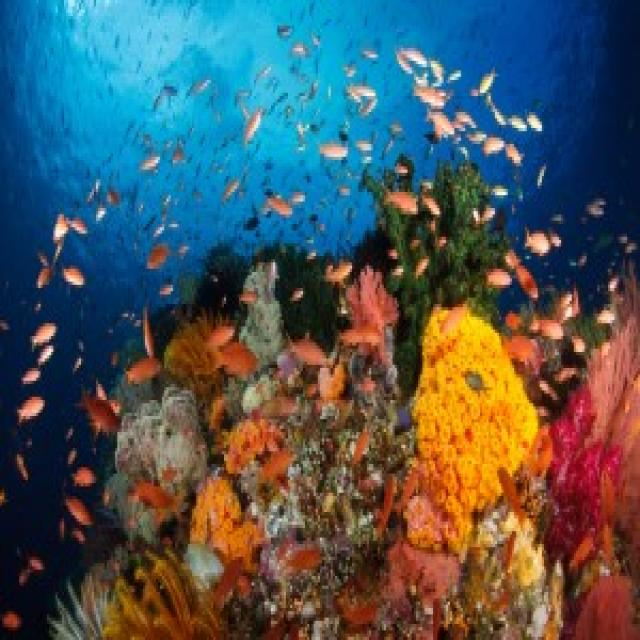Healthy: (545, 283, 639, 638), (413, 308, 539, 548), (112, 388, 206, 542), (103, 551, 225, 638), (191, 478, 261, 567), (389, 539, 460, 603), (165, 321, 219, 391), (52, 574, 110, 638), (349, 267, 398, 331), (406, 497, 447, 548)
